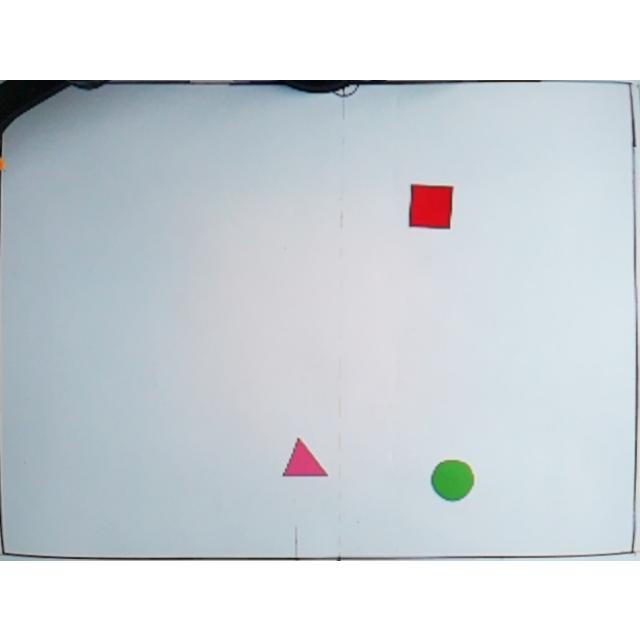greenCircle: (431, 453, 475, 502)
pinkTriangle: (281, 436, 329, 480)
redSquare: (406, 180, 454, 232)
